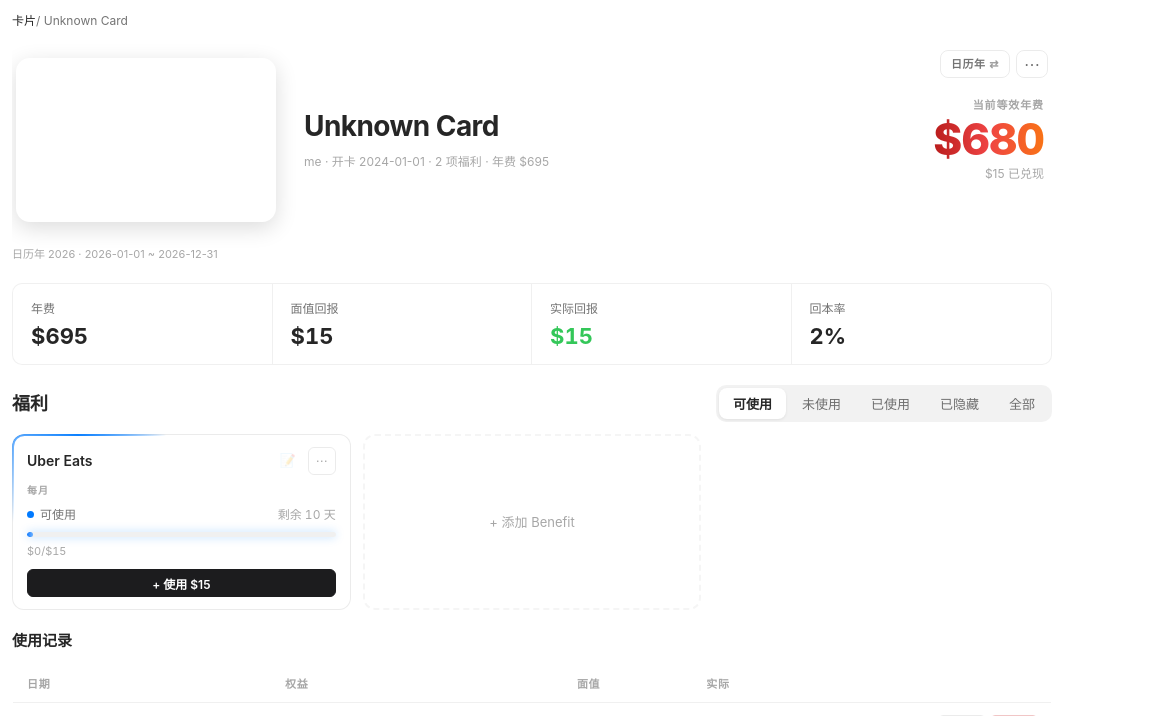
Test: CardDetail filter integration › shows hidden benefit only when 已隐藏 filter active
Click the button with test id "filter-pill-hidden". click: (960, 403)
box: [926,388,993,419]
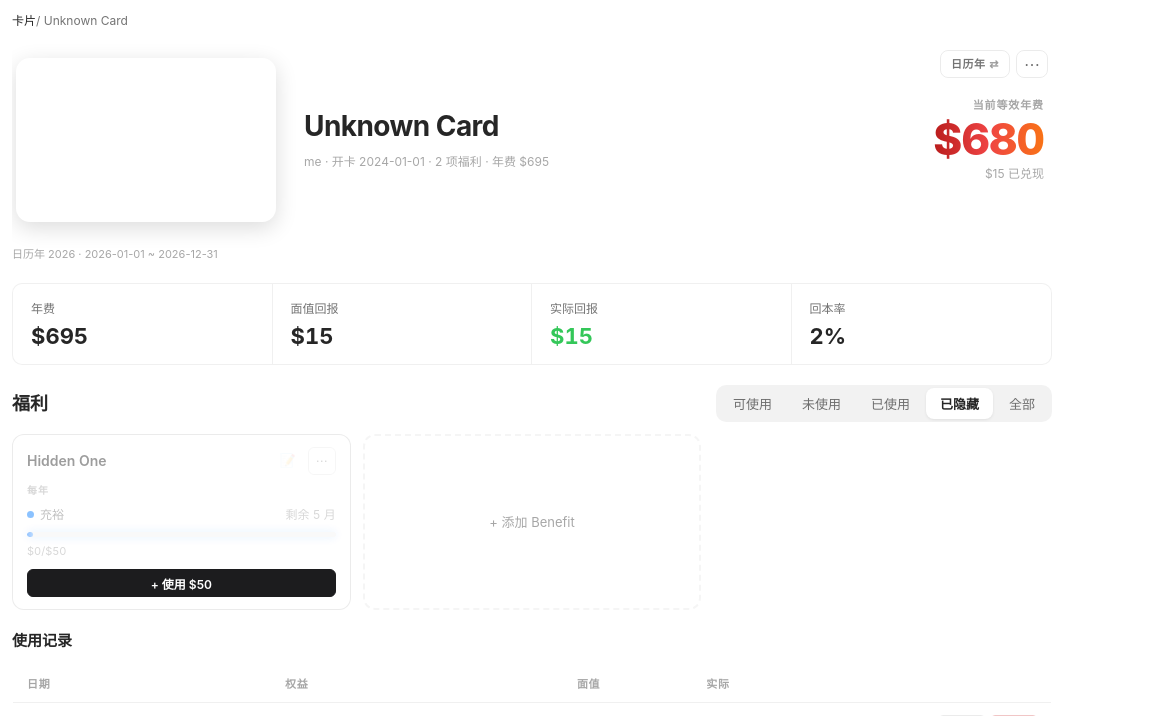
Expected: the text "Hidden One" is shown, [27,452,107,469]
